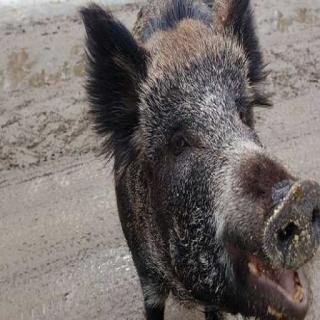Pig: (77, 0, 320, 320)
